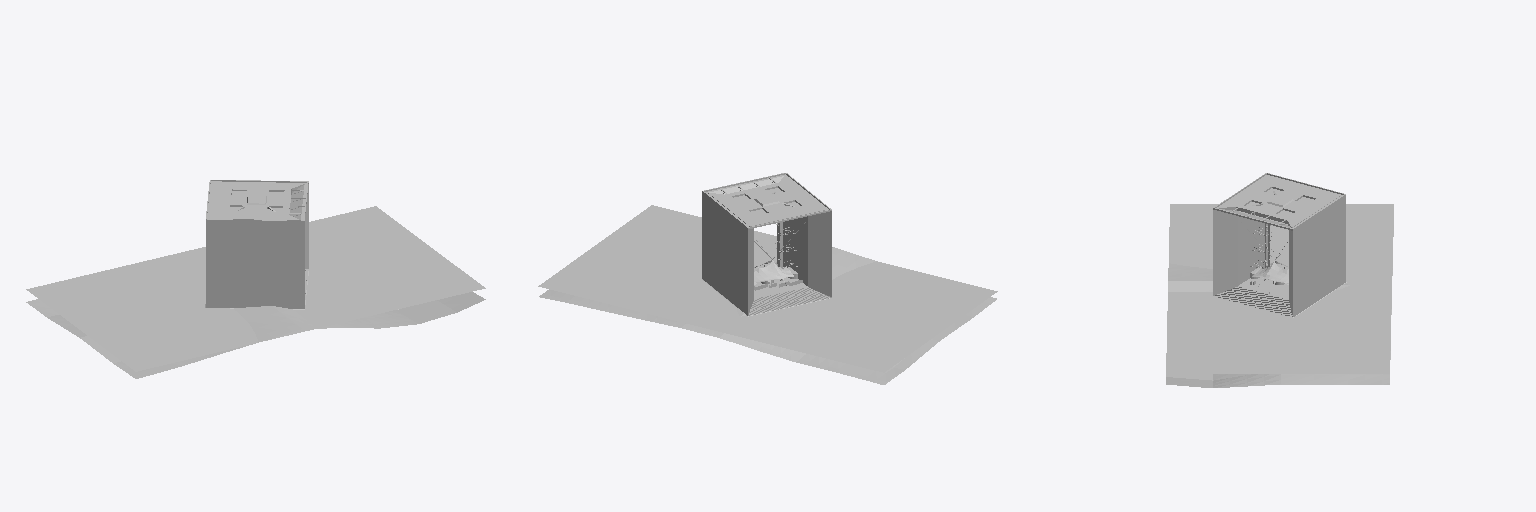
File: arche_defense.obj
3 views of the same model, side by side, from view 1: azimuth 30°, elevation 25°; view 2: azimuth 150°, elevation 25°; view 3: azimuth 270°, elevation 25° (orthographic).
Visible parts, largest first — view 1: modele-GRP-Google_Earth_Snapshot-20465-Google_Earth_Snapshot, modele-GRP-20461-053, modele-GRP-Google_Earth_Terrain-20462-Google_Earth_Snapshot, modele-GRP-20461-052; view 2: modele-GRP-Google_Earth_Snapshot-20465-Google_Earth_Snapshot, modele-GRP-Google_Earth_Terrain-20462-Google_Earth_Snapshot, modele-GRP-20461-053, modele-GRP-20461-052, modele-GRP-20461-082, modele-GRP-20461-03, modele-GRP-7689-061; view 3: modele-GRP-Google_Earth_Snapshot-20465-Google_Earth_Snapshot, modele-GRP-20461-053, modele-GRP-20461-052, modele-GRP-Google_Earth_Terrain-20462-Google_Earth_Snapshot, modele-GRP-20461-082, modele-GRP-20461-03, modele-GRP-7688-061, modele-GRP-20461-07.
Boxes of the visible parts, x1,y1,x2,y2 form: modele-GRP-Google_Earth_Snapshot-20465-Google_Earth_Snapshot: [26, 206, 485, 371]; modele-GRP-20461-053: [206, 219, 304, 308]; modele-GRP-Google_Earth_Terrain-20462-Google_Earth_Snapshot: [26, 292, 485, 378]; modele-GRP-20461-052: [206, 180, 308, 220]; modele-GRP-Google_Earth_Snapshot-20465-Google_Earth_Snapshot: [538, 205, 997, 372]; modele-GRP-Google_Earth_Terrain-20462-Google_Earth_Snapshot: [539, 247, 996, 384]; modele-GRP-20461-053: [702, 191, 747, 315]; modele-GRP-20461-052: [703, 173, 831, 227]; modele-GRP-20461-082: [748, 211, 831, 314]; modele-GRP-20461-03: [783, 216, 807, 285]; modele-GRP-7689-061: [749, 287, 829, 315]; modele-GRP-Google_Earth_Snapshot-20465-Google_Earth_Snapshot: [1166, 204, 1393, 373]; modele-GRP-20461-053: [1293, 195, 1345, 316]; modele-GRP-20461-052: [1214, 173, 1345, 228]; modele-GRP-Google_Earth_Terrain-20462-Google_Earth_Snapshot: [1166, 225, 1393, 387]; modele-GRP-20461-082: [1213, 210, 1292, 314]; modele-GRP-20461-03: [1238, 216, 1267, 285]; modele-GRP-7688-061: [1215, 287, 1292, 316]; modele-GRP-20461-07: [1238, 265, 1288, 299].
Size of the model in its own units: 457 by 140 by 258.